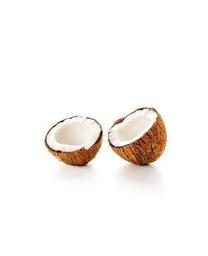coconut: (108, 107, 169, 166), (45, 115, 103, 168)
